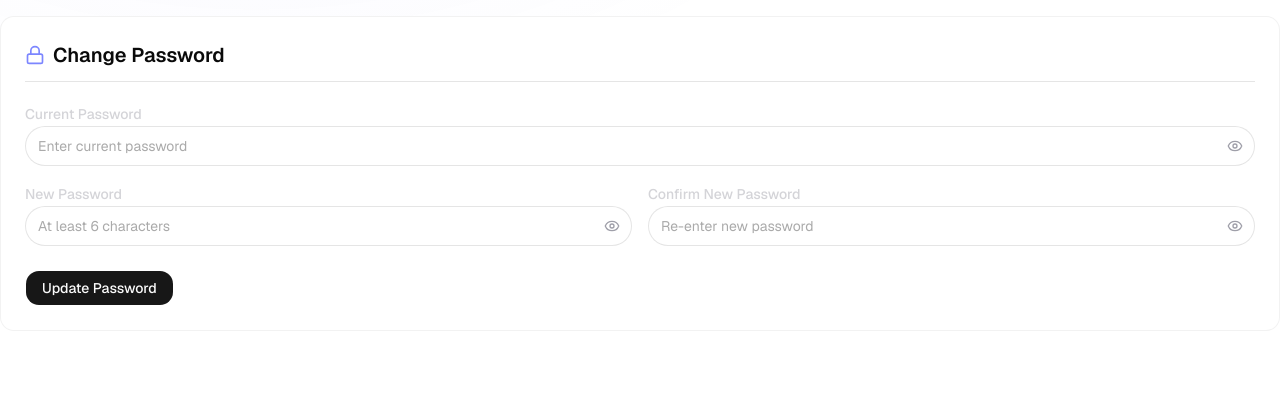
Component: ChangePasswordForm (C27-C28) › shows error when new password is too short (<6 chars)
The width and height of the screenshot is (1280, 414).
Step 1. Type "CurrentPass123!" into the password field labelled "Current Password" → (640, 146), box [25,126,1255,166]
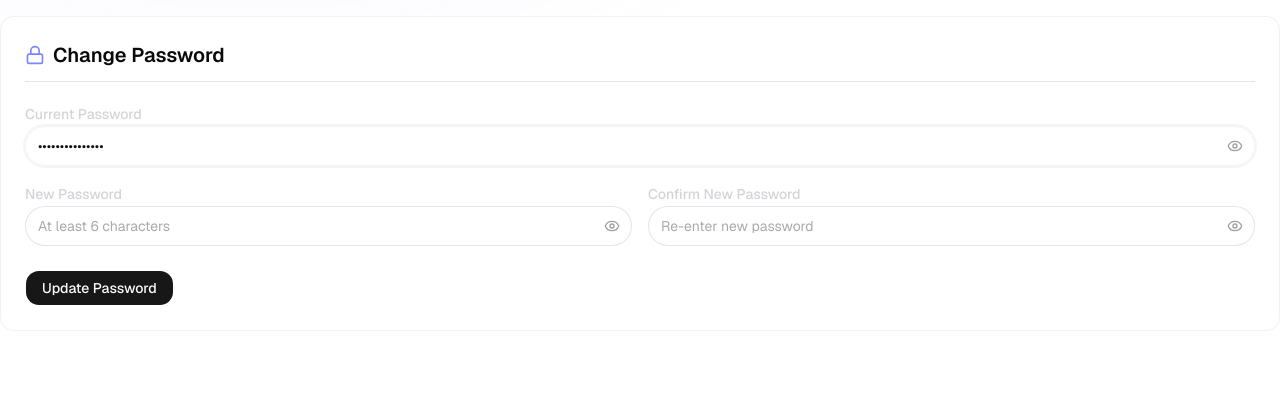
Step 2. Type "12345" into the password field labelled "New Password" → (328, 226), box [25,206,632,246]
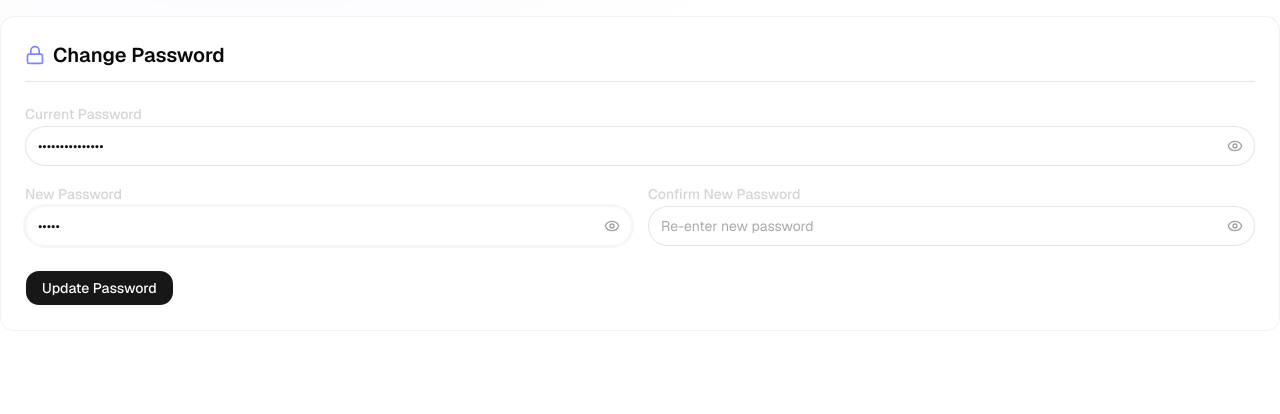
Step 3. Type "12345" into the password field labelled "Confirm New Password" → (952, 226), box [648,206,1255,246]
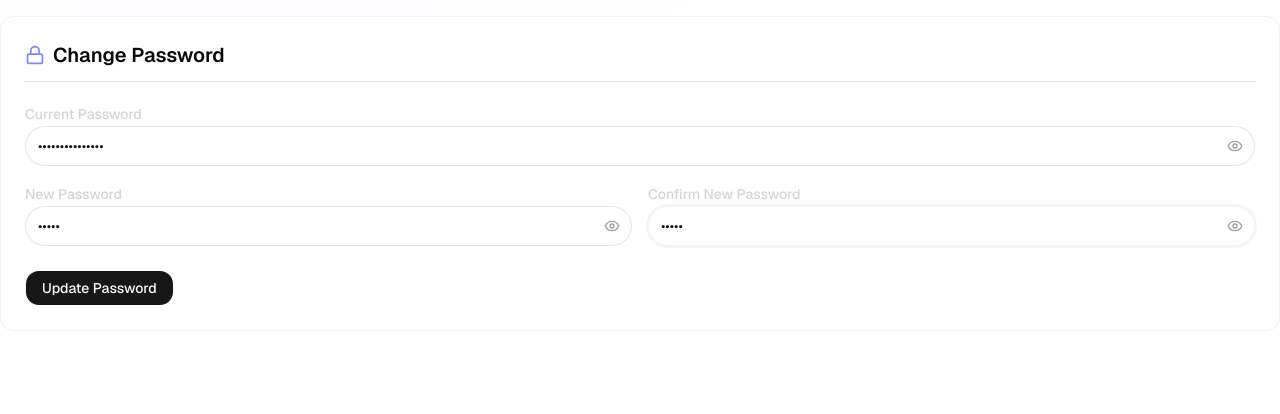
Step 4. Click the button "Update Password" → click(99, 288), box [25,270,174,306]
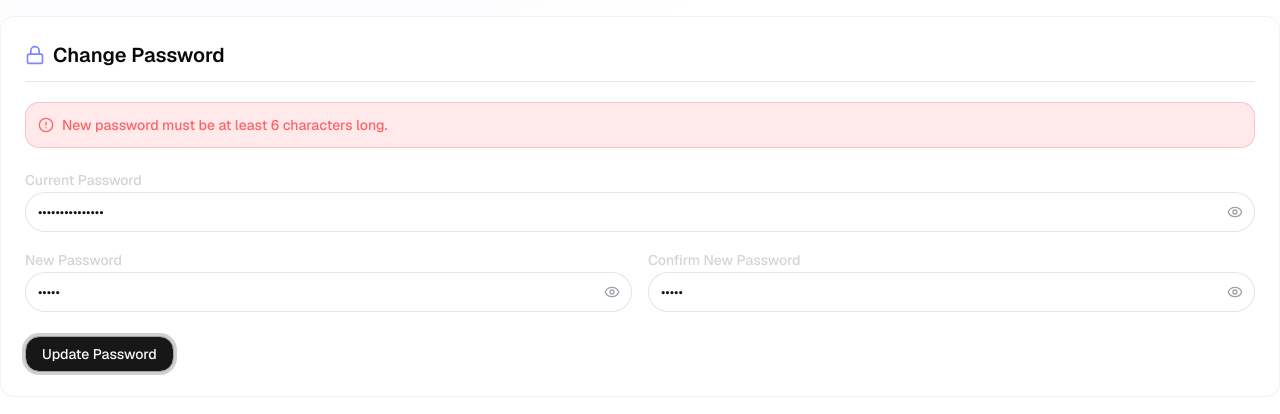
expect the text "New password must be at least 6 characters long." is shown: met, box [62,115,388,135]
